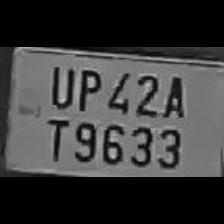2: (130, 69, 158, 115)
3: (125, 120, 153, 166), (154, 123, 182, 169)
4: (103, 64, 132, 114)
6: (97, 119, 125, 164)
9: (69, 116, 97, 164)
A: (158, 71, 186, 119)
P: (72, 63, 102, 113)
T: (40, 115, 68, 163)
U: (46, 61, 74, 109)
